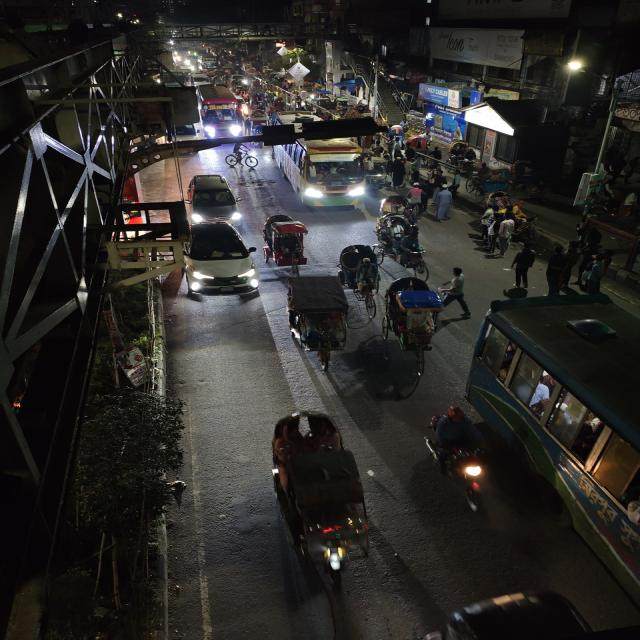bicycle: (224, 148, 261, 178)
bus: (468, 296, 640, 638), (270, 136, 372, 210), (195, 84, 244, 140)
car: (180, 221, 259, 298), (182, 172, 244, 225)
motorcycle: (422, 404, 490, 516)
pedestrian: (441, 265, 474, 316), (543, 244, 574, 294), (584, 250, 615, 296), (479, 209, 511, 251), (508, 245, 539, 287), (491, 216, 519, 258), (568, 251, 595, 289), (432, 185, 456, 221), (478, 204, 501, 238), (387, 157, 409, 190), (406, 180, 427, 212)
rickshaw: (263, 403, 376, 589), (278, 273, 351, 372), (382, 274, 446, 353), (378, 210, 434, 271), (334, 241, 381, 312), (261, 213, 315, 269), (380, 194, 412, 218)
